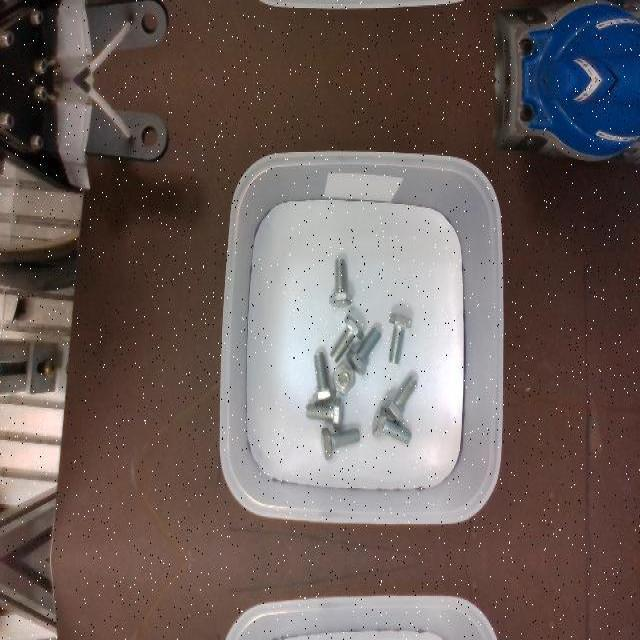screw: (347, 326, 382, 376), (329, 313, 363, 363), (383, 376, 418, 424), (371, 405, 411, 443), (311, 351, 335, 405), (306, 397, 343, 431), (388, 312, 412, 364), (322, 428, 360, 460), (328, 258, 352, 308), (332, 363, 356, 395)
